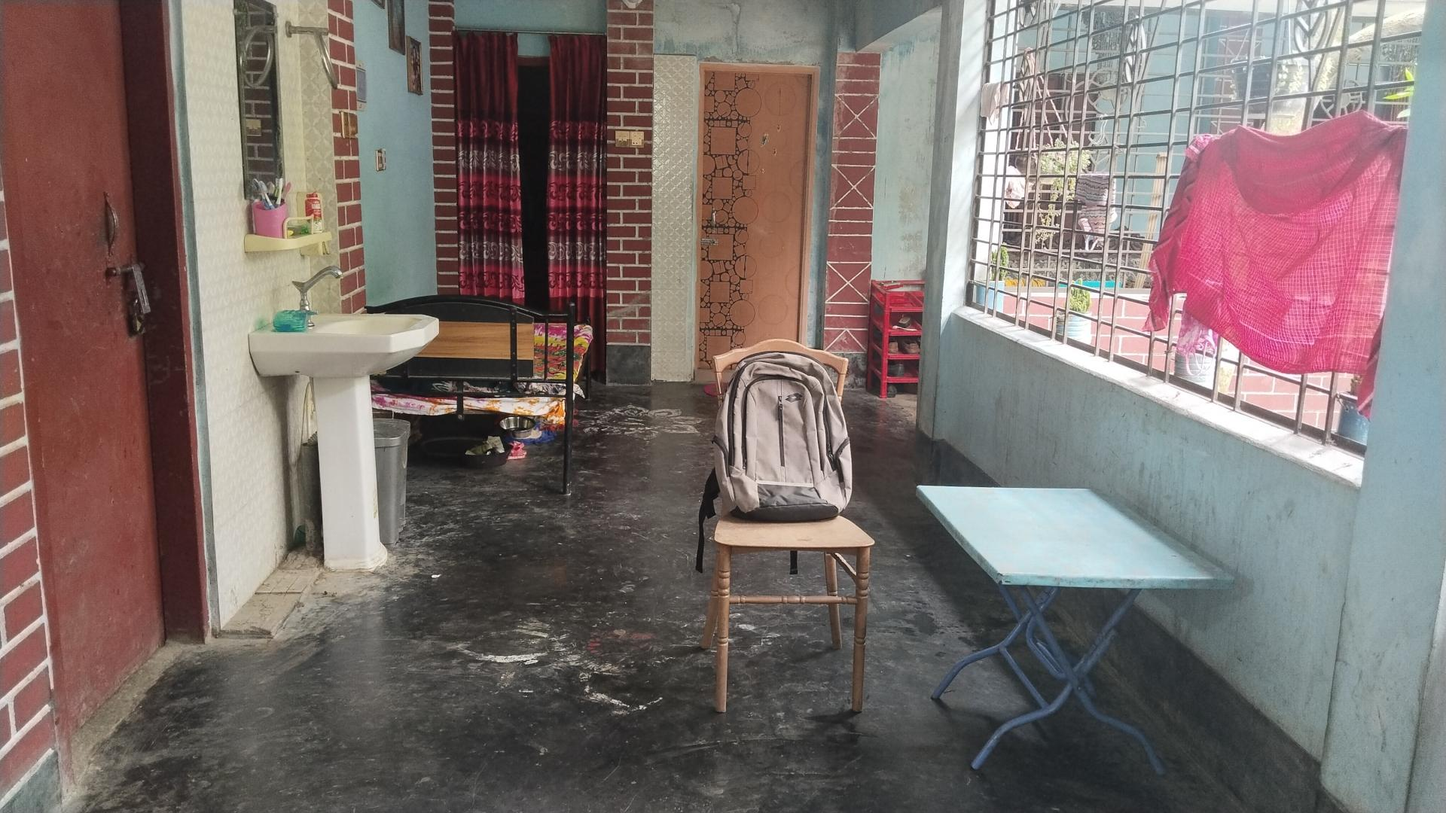Bag: (718, 362, 850, 518)
Chair: (712, 343, 871, 706)
Door: (701, 69, 809, 389)
Table: (915, 479, 1233, 767)
